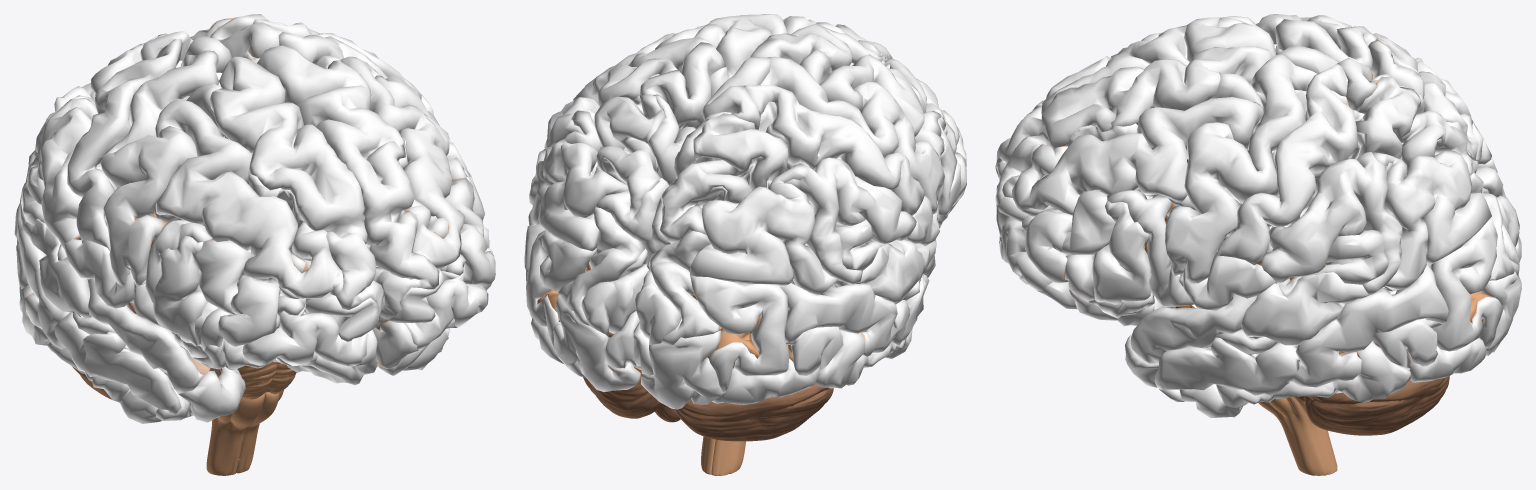
File: brain-draco-nwm.glb
3 views of the same model, side by side, from view 1: azimuth 30°, elevation 25°; view 2: azimuth 150°, elevation 25°; view 3: azimuth 270°, elevation 25° (orthographic). The views are drawn at different scales.
Visible parts, largest first — view 1: Middle frontal gyrus_R, Superior frontal gyrus_R, Superior frontal gyrus_L, Precentral gyrus_R, Middle frontal gyrus_L, Middle temporal gyrus_R, Superior temporal gyrus (Lateral part)_R, Postcentral gyrus_R, Supramarginal gyrus_R, Orbital gyri (Frontomarginal gyrus and sulcus*)_R, Triangular part of inferior frontal gyrus_R, Inferior frontal sulcus_R (+27 smaller); view 2: Angular gyrus_R, Superior parietal lobule_R, Postcentral gyrus_R, Supramarginal gyrus_R, Lateral occipital gyrus (Middle occipital gyrus*)_R, Angular gyrus_L, Precentral gyrus_R, Middle temporal gyrus_R, Superior parietal lobule_L, Cerebellum_R, Occipital pole_R, Middle frontal gyrus_R (+31 smaller); view 3: Middle frontal gyrus_L, Precentral gyrus_L, Middle temporal gyrus_L, Superior frontal gyrus_L, Superior temporal gyrus (Lateral part)_L, Postcentral gyrus_L, Supramarginal gyrus_L, Angular gyrus_L, Inferior temporal gyrus_L, Superior frontal gyrus_R, Superior parietal lobule_L, Lateral occipital gyrus (Middle occipital gyrus*)_L (+26 smaller).
Part boxes in pixels (x1,y1,x2,y2): Middle frontal gyrus_R: (155, 98, 343, 346); Superior frontal gyrus_R: (210, 56, 383, 318); Superior frontal gyrus_L: (242, 45, 439, 330); Precentral gyrus_R: (101, 50, 219, 286); Middle frontal gyrus_L: (341, 56, 495, 285); Middle temporal gyrus_R: (14, 203, 181, 415); Superior temporal gyrus (Lateral part)_R: (23, 219, 204, 393); Postcentral gyrus_R: (67, 39, 182, 250); Supramarginal gyrus_R: (20, 97, 97, 248); Orbital gyri (Frontomarginal gyrus and sulcus*)_R: (242, 303, 367, 366); Triangular part of inferior frontal gyrus_R: (153, 235, 207, 346); Inferior frontal sulcus_R: (153, 203, 252, 314); Angular gyrus_R: (690, 163, 838, 294); Superior parietal lobule_R: (660, 113, 788, 243); Postcentral gyrus_R: (744, 85, 924, 215); Supramarginal gyrus_R: (784, 157, 916, 284); Lateral occipital gyrus (Middle occipital gyrus*)_R: (690, 275, 789, 392); Angular gyrus_L: (531, 110, 628, 251); Precentral gyrus_R: (760, 56, 944, 214); Middle temporal gyrus_R: (780, 274, 929, 356); Superior parietal lobule_L: (594, 94, 666, 229); Cerebellum_R: (675, 384, 833, 441); Occipital pole_R: (641, 330, 724, 409); Middle frontal gyrus_R: (819, 54, 966, 166); Middle frontal gyrus_L: (1002, 97, 1264, 283); Precentral gyrus_L: (1165, 53, 1317, 283); Middle temporal gyrus_L: (1155, 264, 1448, 395); Superior frontal gyrus_L: (995, 46, 1272, 205); Superior temporal gyrus (Lateral part)_L: (1130, 272, 1369, 365); Postcentral gyrus_L: (1214, 63, 1357, 265); Supramarginal gyrus_L: (1261, 152, 1402, 294); Angular gyrus_L: (1372, 151, 1491, 291); Inferior temporal gyrus_L: (1179, 318, 1441, 417); Superior frontal gyrus_R: (995, 17, 1283, 179); Superior parietal lobule_L: (1355, 76, 1478, 175); Lateral occipital gyrus (Middle occipital gyrus*)_L: (1430, 217, 1503, 351).
Bounding box in the file's own units: 0.1452 × 0.1609 × 0.1769.
